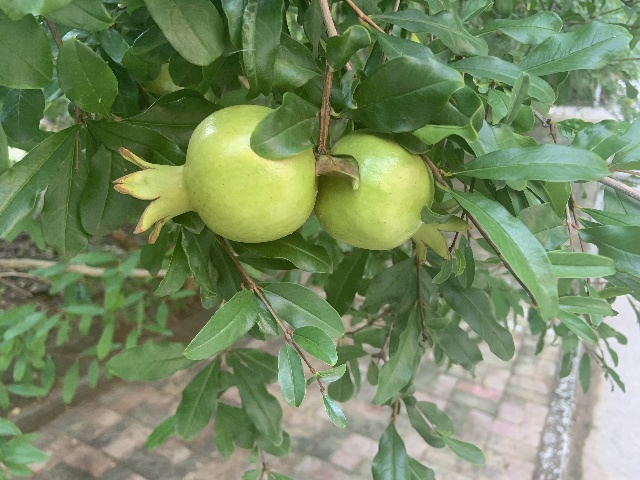mid-growth: (112, 104, 318, 244), (314, 128, 472, 263)
